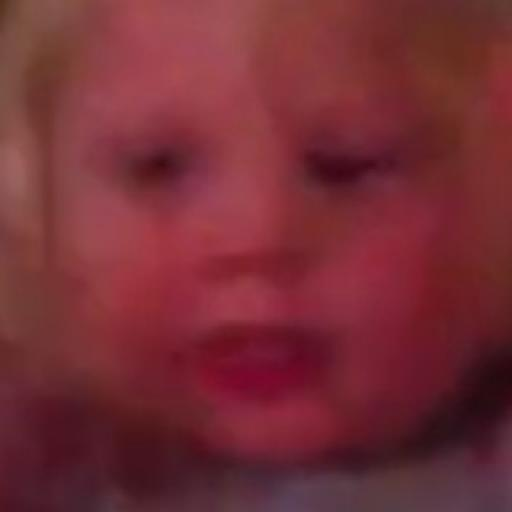Autism: (55, 41, 512, 501)
